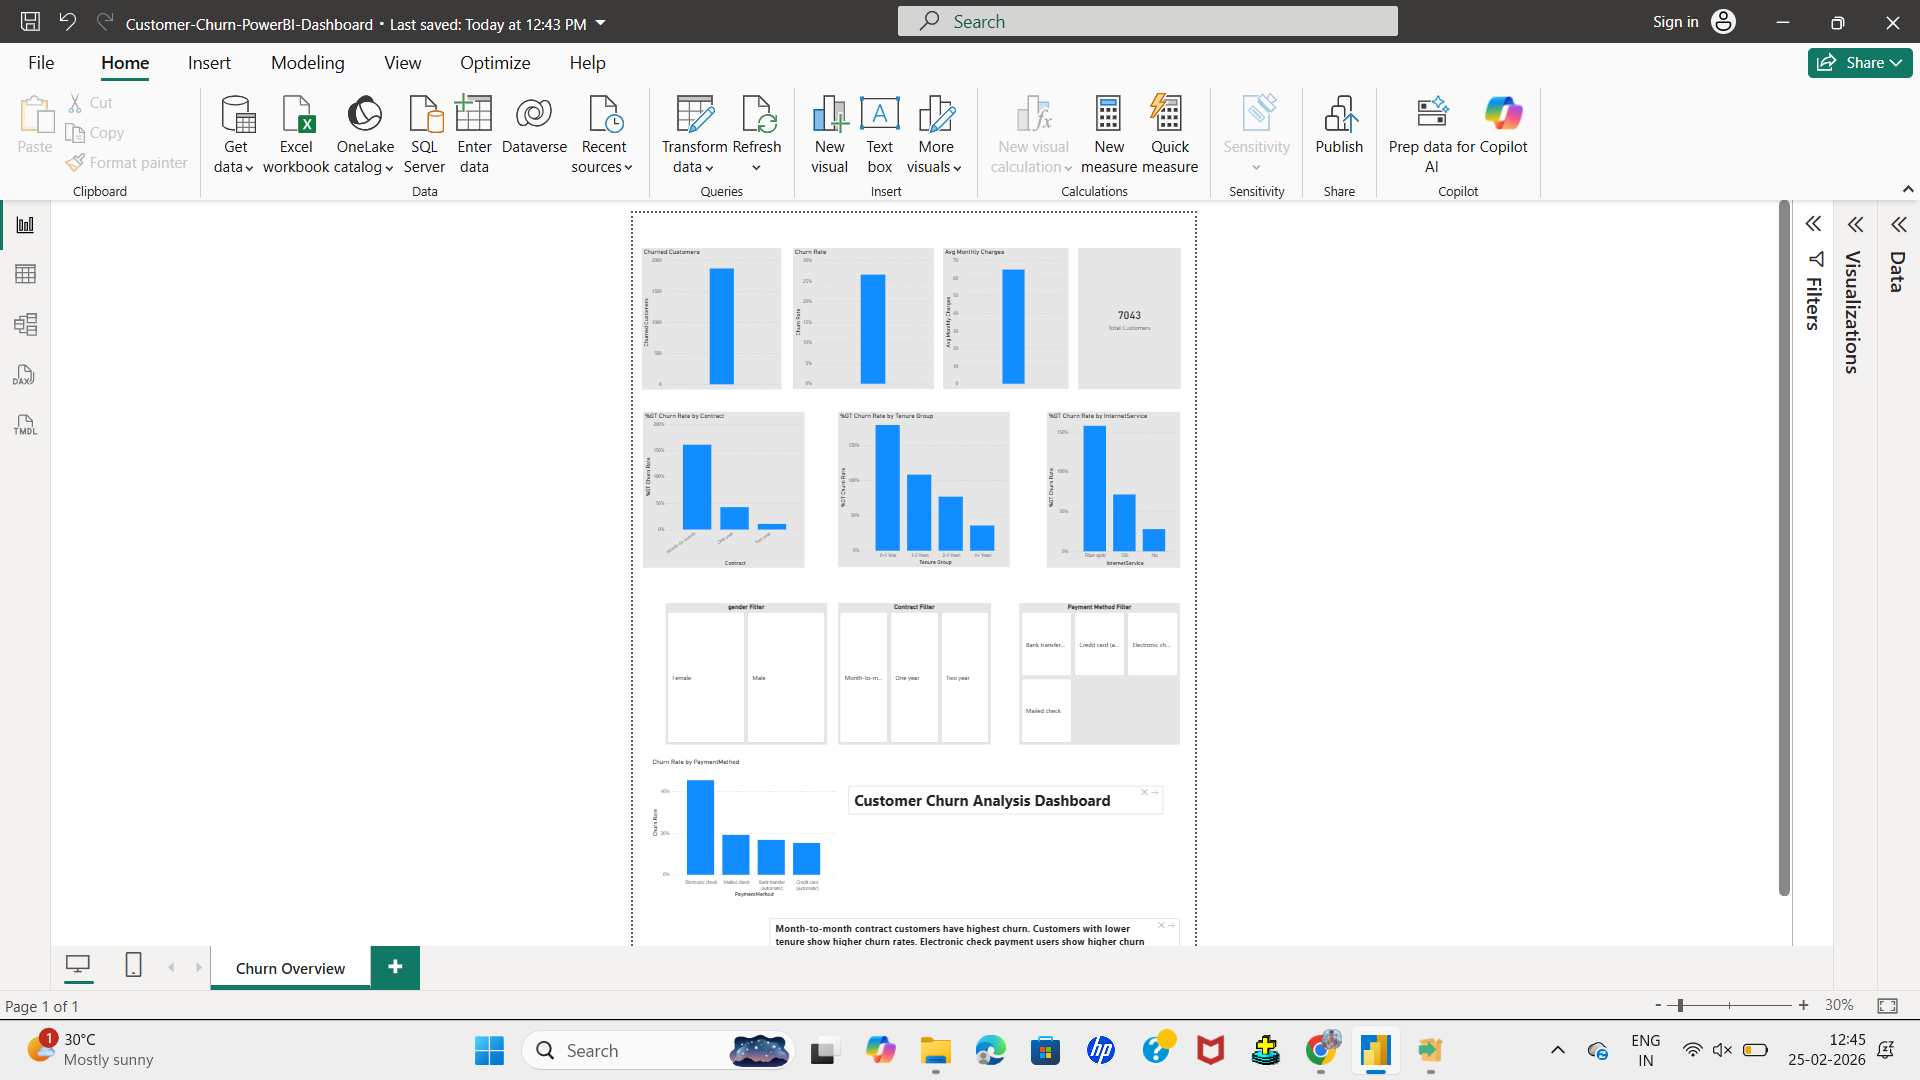

This screenshot's page, from the dashboard's own definition file:
{"tool":"powerbi","page":{"name":"Churn Overview","canvas":[1500,2100],"ordinal":0},"visuals":[{"type":"clusteredColumnChart","fields":{"Y":["WA_Fn-UseC_-Telco-Customer-Churn.Churned Customers"]},"box":[24.9,92.7,373.1,377.6],"z":0},{"type":"clusteredColumnChart","fields":{"Y":["WA_Fn-UseC_-Telco-Customer-Churn.Churn Rate"]},"box":[425.6,93.3,376.1,376.1],"z":1000},{"type":"clusteredColumnChart","fields":{"Y":["WA_Fn-UseC_-Telco-Customer-Churn.Avg Monthly Charges"]},"box":[826.4,93.3,335,376.1],"z":2000},{"type":"card","fields":{"Values":["WA_Fn-UseC_-Telco-Customer-Churn.Total Customers"]},"box":[1186.1,93.3,274.6,376.1],"z":3000},{"type":"clusteredColumnChart","fields":{"Y":["WA_Fn-UseC_-Telco-Customer-Churn.Churn Rate"],"Category":["WA_Fn-UseC_-Telco-Customer-Churn.Contract"]},"box":[25.1,528.9,431.2,416.1],"z":4000},{"type":"clusteredColumnChart","fields":{"Y":["WA_Fn-UseC_-Telco-Customer-Churn.Churn Rate"],"Category":["WA_Fn-UseC_-Telco-Customer-Churn.Tenure Group"]},"box":[546.4,529.9,458.5,414.6],"z":5000},{"type":"clusteredColumnChart","fields":{"Y":["WA_Fn-UseC_-Telco-Customer-Churn.Churn Rate"],"Category":["WA_Fn-UseC_-Telco-Customer-Churn.InternetService"]},"box":[1103,528.9,356,416.1],"z":6000},{"type":"advancedSlicerVisual","title":"gender Filter ","fields":{"Values":["WA_Fn-UseC_-Telco-Customer-Churn.gender"]},"box":[85.3,1041.4,431.5,377.3],"z":7000},{"type":"advancedSlicerVisual","title":"Payment Method Filter","fields":{"Values":["WA_Fn-UseC_-Telco-Customer-Churn.PaymentMethod"]},"box":[1031,1041.4,428.9,377.3],"z":8000},{"type":"advancedSlicerVisual","title":"Contract Filter","fields":{"Values":["WA_Fn-UseC_-Telco-Customer-Churn.Contract"]},"box":[545.2,1041.4,408.3,377.3],"z":9000},{"type":"textSlicer","box":[569.8,1522.8,847.9,84.8],"z":9001},{"type":"textSlicer","box":[359.5,1875.5,1102.3,139.1],"z":9002},{"type":"clusteredColumnChart","fields":{"Y":["WA_Fn-UseC_-Telco-Customer-Churn.Churn Rate"],"Category":["WA_Fn-UseC_-Telco-Customer-Churn.PaymentMethod"]},"box":[47.5,1455,498.6,376.5],"z":9003}]}

Visuals, with their boxes on the page's 1500x2100 design canvas (x1, y1, x2, y2). These are canvas units, not pixel positions in the 1920x1080 screenshot, which may show the page scaled, cropped or inside an application window:
clusteredColumnChart - WA_Fn-UseC_-Telco-Customer-Churn.Churned Customers: Rect(25, 93, 398, 470)
clusteredColumnChart - WA_Fn-UseC_-Telco-Customer-Churn.Churn Rate: Rect(426, 93, 802, 469)
clusteredColumnChart - WA_Fn-UseC_-Telco-Customer-Churn.Avg Monthly Charges: Rect(826, 93, 1161, 469)
card - WA_Fn-UseC_-Telco-Customer-Churn.Total Customers: Rect(1186, 93, 1461, 469)
clusteredColumnChart - WA_Fn-UseC_-Telco-Customer-Churn.Churn Rate x WA_Fn-UseC_-Telco-Customer-Churn.Contract: Rect(25, 529, 456, 945)
clusteredColumnChart - WA_Fn-UseC_-Telco-Customer-Churn.Churn Rate x WA_Fn-UseC_-Telco-Customer-Churn.Tenure Group: Rect(546, 530, 1005, 944)
clusteredColumnChart - WA_Fn-UseC_-Telco-Customer-Churn.Churn Rate x WA_Fn-UseC_-Telco-Customer-Churn.InternetService: Rect(1103, 529, 1459, 945)
"gender Filter " advancedSlicerVisual: Rect(85, 1041, 517, 1419)
"Payment Method Filter" advancedSlicerVisual: Rect(1031, 1041, 1460, 1419)
"Contract Filter" advancedSlicerVisual: Rect(545, 1041, 954, 1419)
textSlicer: Rect(570, 1523, 1418, 1608)
textSlicer: Rect(360, 1876, 1462, 2015)
clusteredColumnChart - WA_Fn-UseC_-Telco-Customer-Churn.Churn Rate x WA_Fn-UseC_-Telco-Customer-Churn.PaymentMethod: Rect(48, 1455, 546, 1832)
